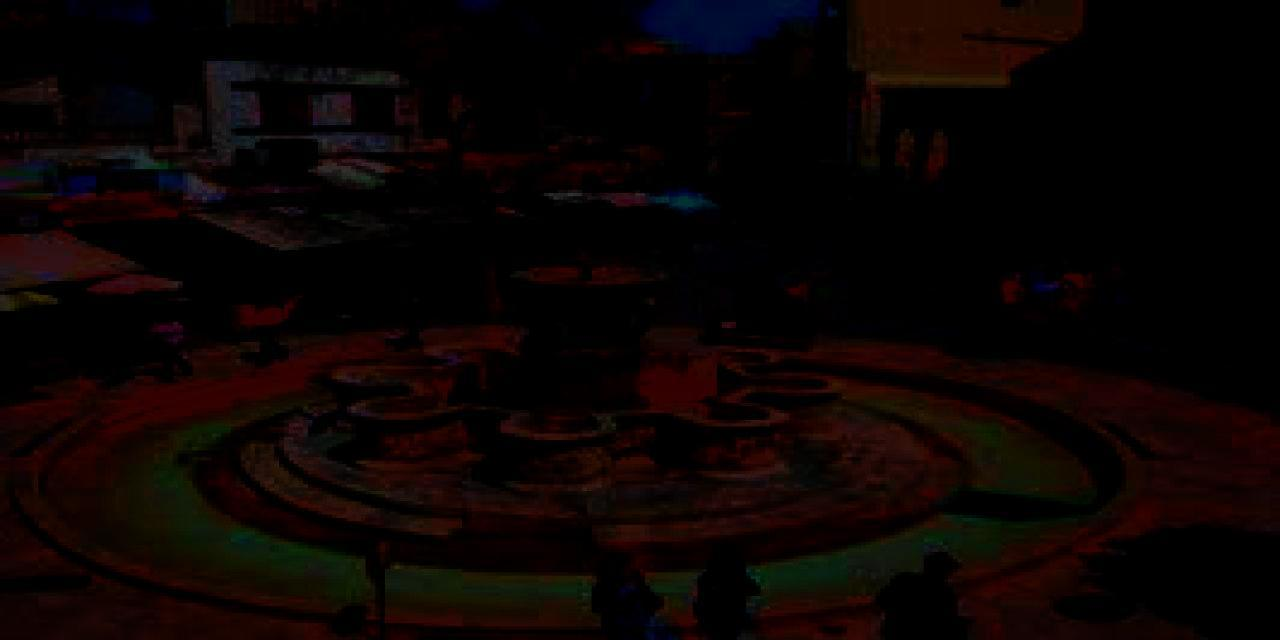Liontaria: (336, 247, 845, 492)
